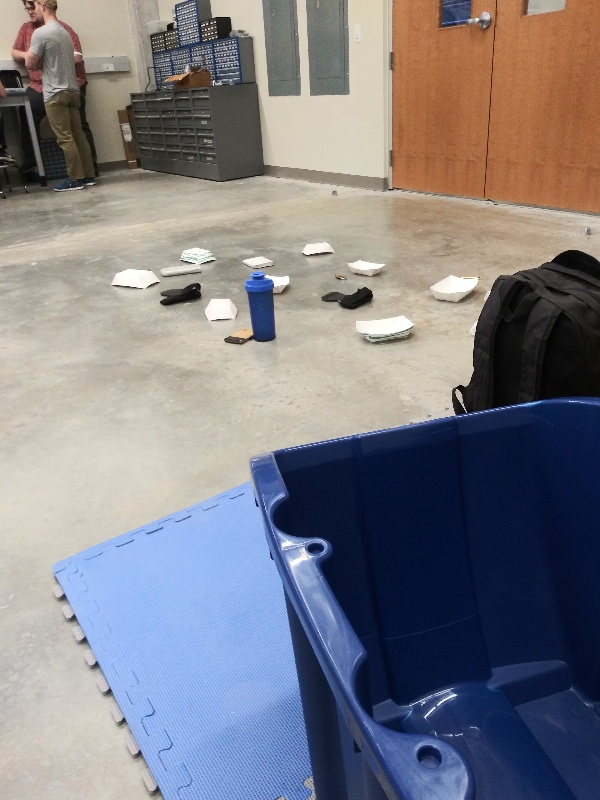plate: (353, 313, 419, 350), (423, 272, 481, 303), (105, 263, 162, 293), (343, 255, 387, 281), (200, 297, 240, 323), (176, 244, 218, 268), (260, 269, 293, 297), (299, 237, 339, 259)
